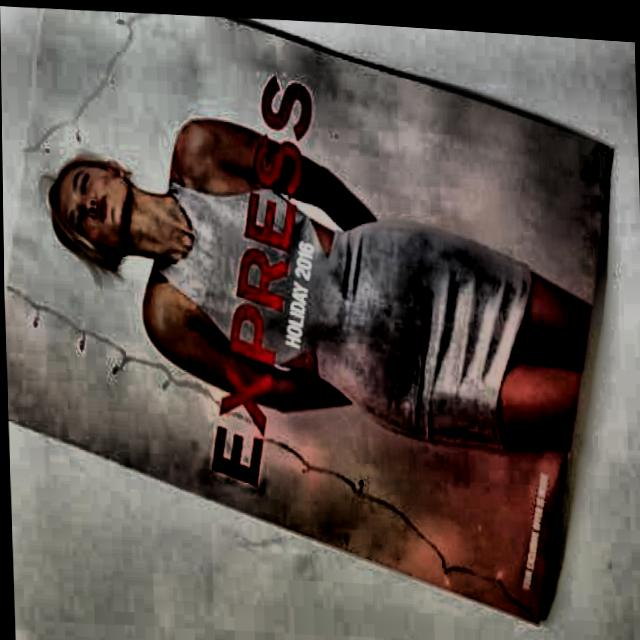Paper: (0, 0, 640, 637)
